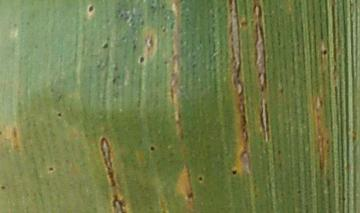tarspot: (88, 5, 94, 12), (102, 43, 108, 49), (139, 56, 144, 63), (48, 166, 54, 171), (150, 145, 155, 151), (232, 169, 237, 175), (57, 112, 62, 117), (1, 185, 6, 190), (198, 176, 203, 181), (323, 50, 327, 54)
